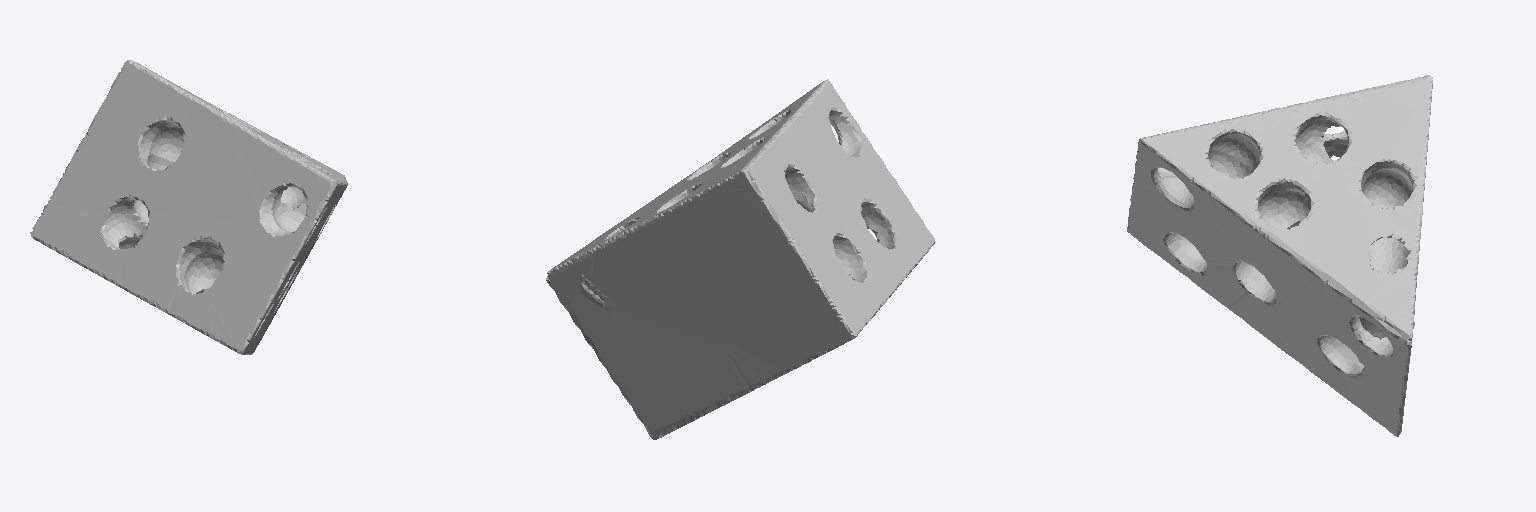
Rendered from cheesev.obj.
3 views of the same model, side by side, from view 1: azimuth 30°, elevation 25°; view 2: azimuth 150°, elevation 25°; view 3: azimuth 270°, elevation 25° (orthographic).
Parts seen in each view (by area): view 1: Layer_1; view 2: Layer_1; view 3: Layer_1.
Boxes of the visible parts, x1=… form: Layer_1: x1=30, y1=60, x2=347, y2=354; Layer_1: x1=546, y1=79, x2=935, y2=439; Layer_1: x1=1127, y1=75, x2=1432, y2=436.
Bounding box in the file's own units: 1.11 × 1.04 × 0.9383.